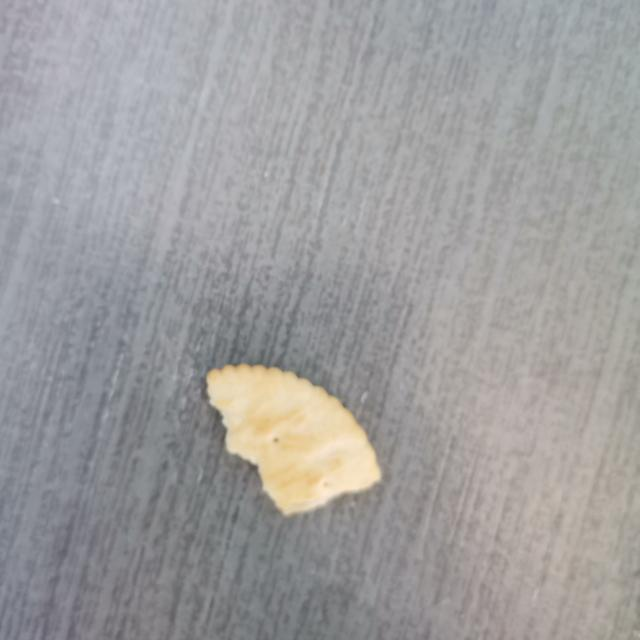Broken: (204, 361, 382, 516)
